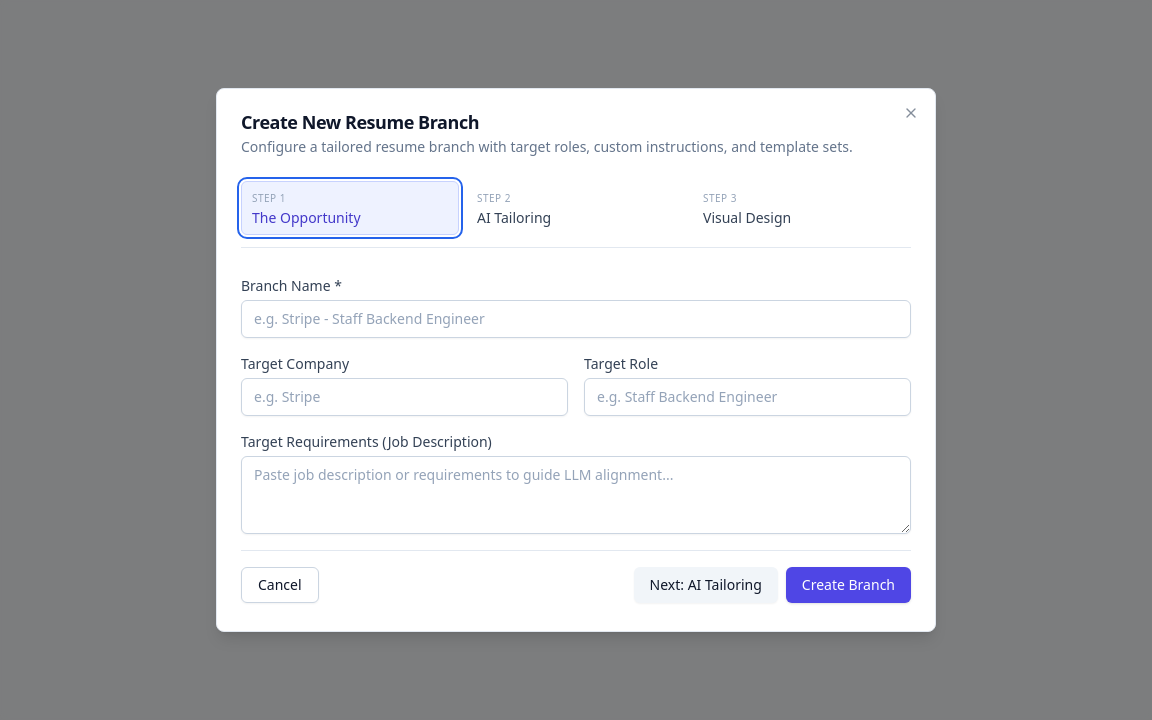
CreateBranchModal Component › validates required name field before submission
Click the button "Create Branch": [848, 585] box [786,567,911,603]
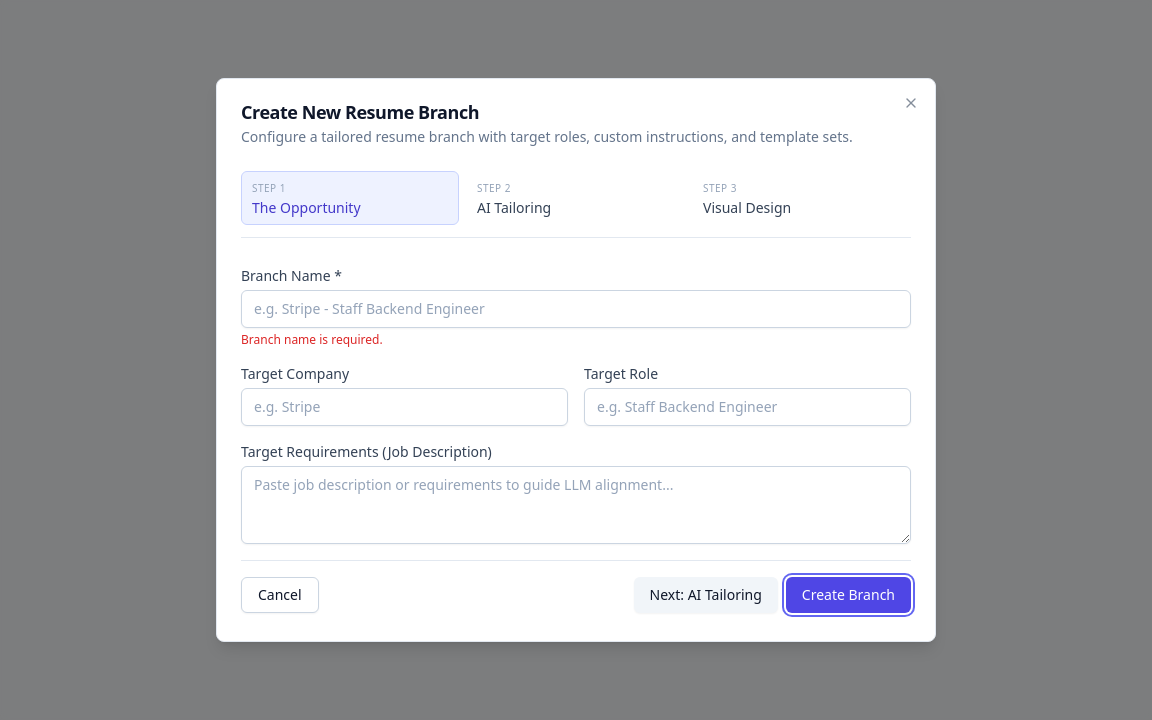
Result: the text "Branch name is required." is shown at [241,331,383,348]
